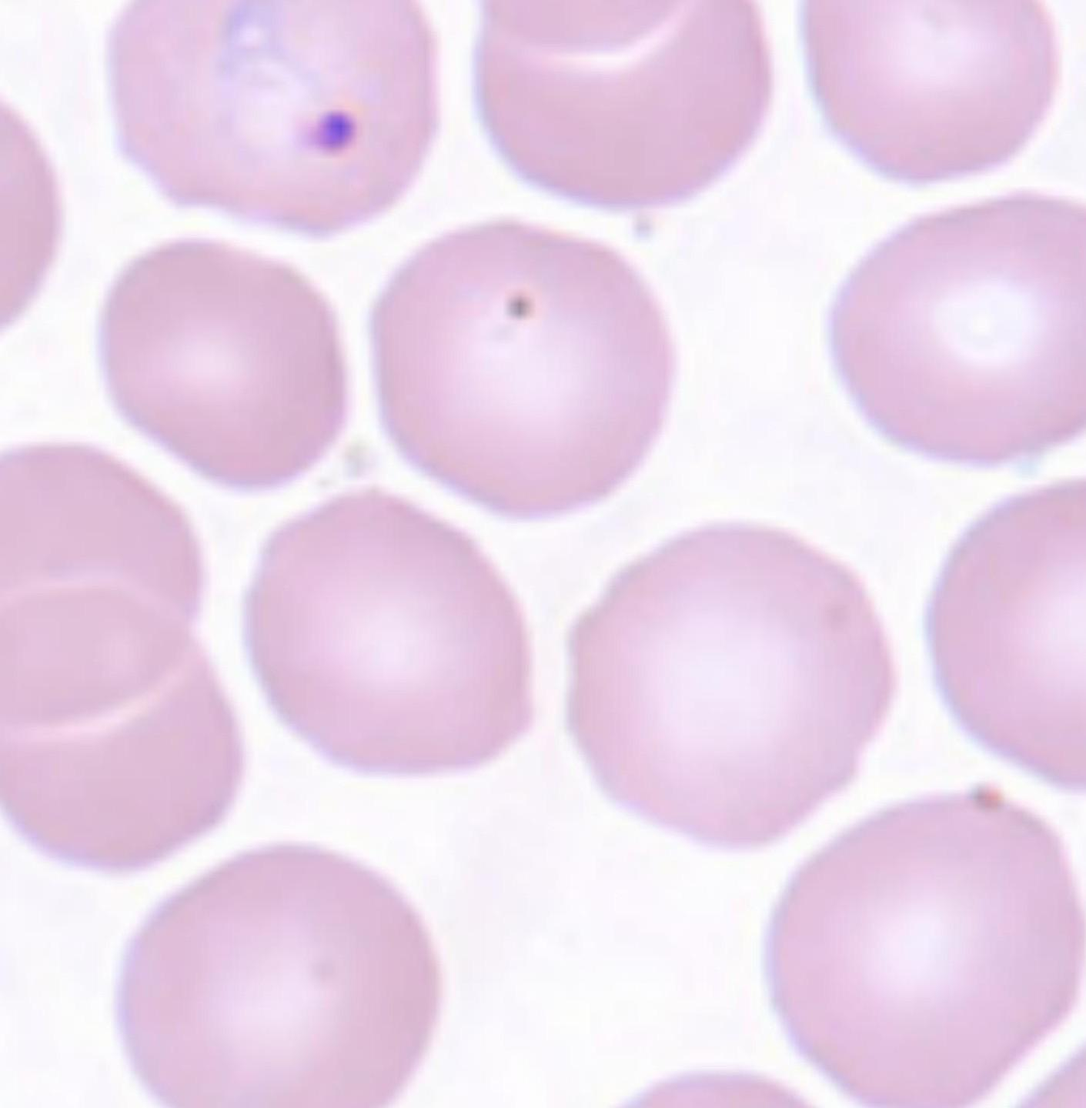Infected: (104, 0, 441, 236)
Uninfected: (566, 524, 900, 851), (766, 793, 1086, 1108), (373, 222, 677, 517), (119, 843, 443, 1108), (242, 493, 532, 774), (827, 197, 1086, 465), (0, 593, 246, 870), (100, 235, 349, 490), (469, 0, 769, 208), (0, 439, 209, 728), (804, 0, 1057, 179)
